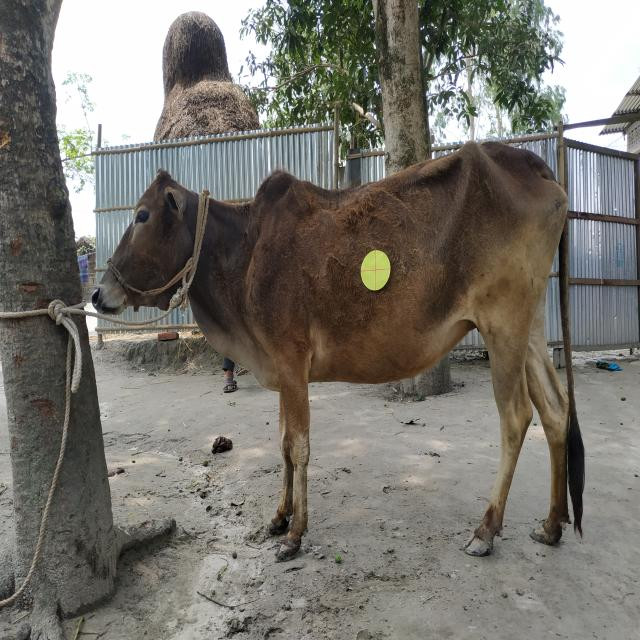badan_sapi: (259, 176, 564, 386)
sapi: (88, 125, 600, 572)
